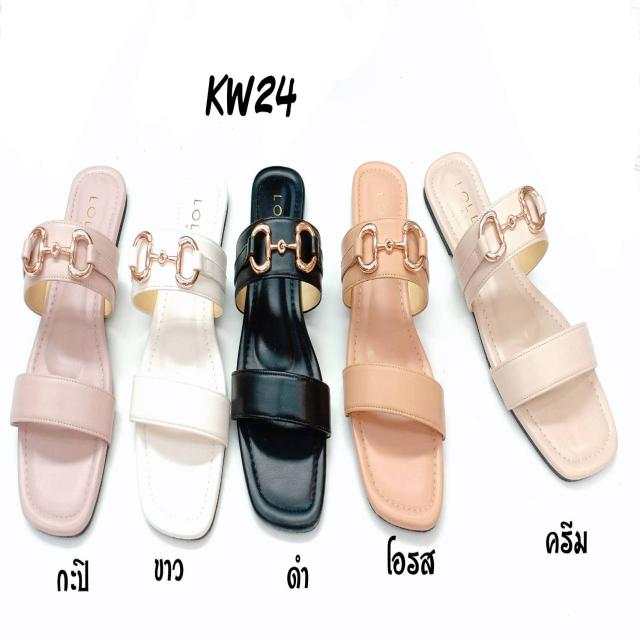black: (241, 166, 327, 524)
cream: (424, 148, 617, 496)
kapi: (16, 163, 132, 539)
orot: (342, 159, 445, 536)
white: (134, 166, 231, 539)
